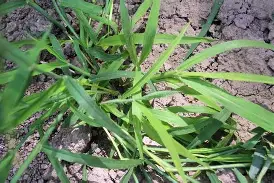weed: (20, 6, 264, 182)
